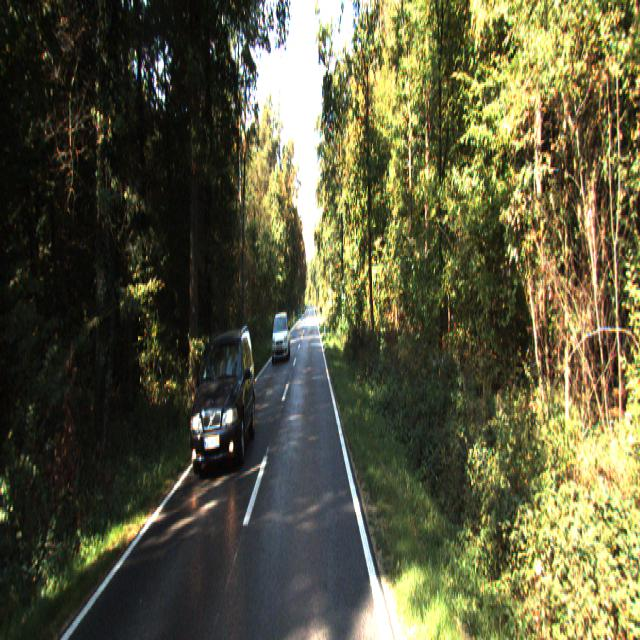Car: (186, 322, 259, 480), (270, 311, 291, 361)
